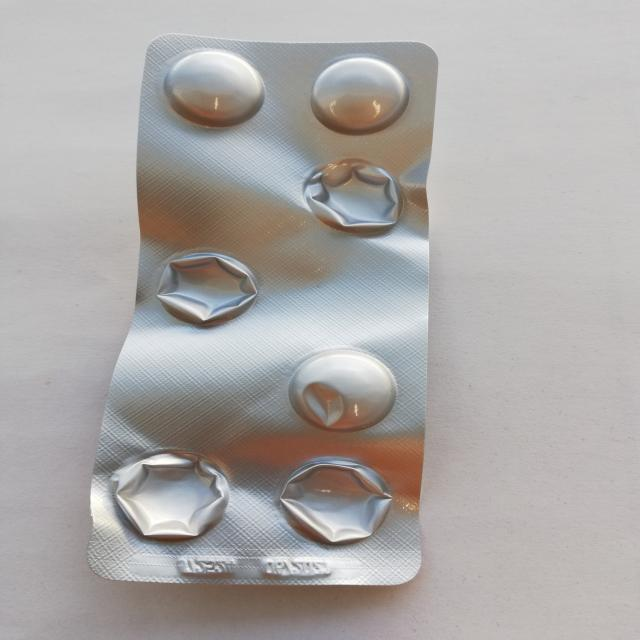Empty: (98, 449, 241, 547), (266, 452, 406, 552), (289, 156, 422, 244), (146, 246, 268, 336)
Pill: (285, 348, 406, 434), (298, 51, 417, 138), (156, 40, 272, 129)
